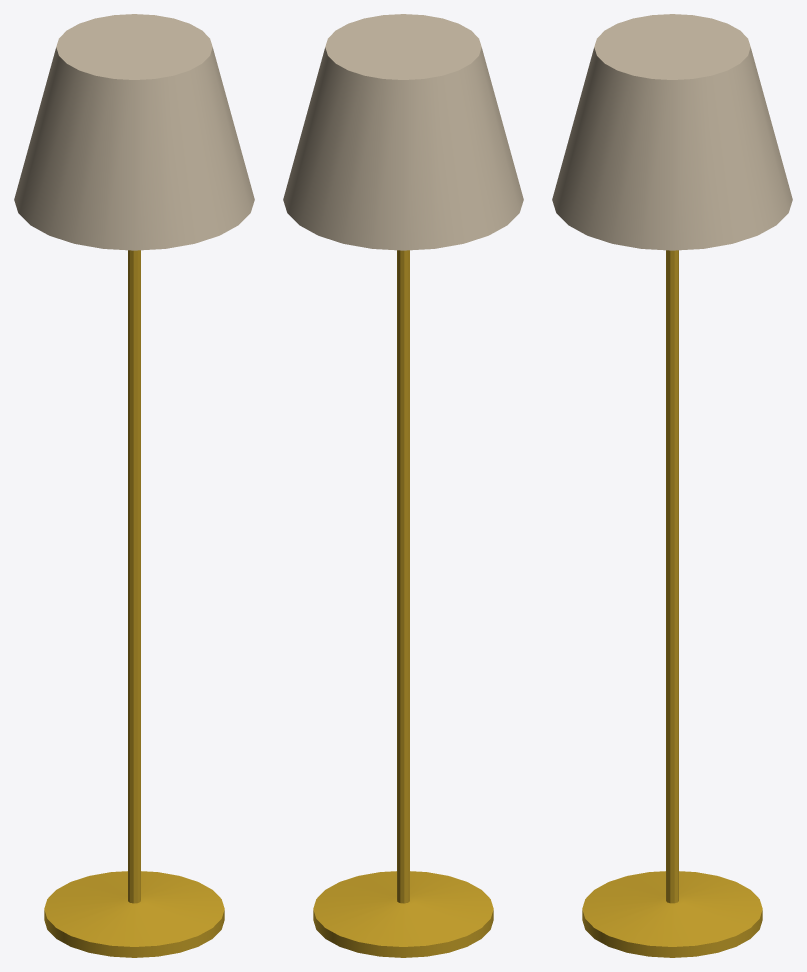
Rendered from prop_floor_lamp.glb.
3 views of the same model, side by side, from view 1: azimuth 30°, elevation 25°; view 2: azimuth 150°, elevation 25°; view 3: azimuth 270°, elevation 25° (orthographic).
Parts seen in each view (by area): view 1: Lamp; view 2: Lamp; view 3: Lamp.
Boxes of the visible parts, x1,y1,x2,y2 form: Lamp: [14, 14, 254, 957]; Lamp: [283, 14, 523, 957]; Lamp: [552, 14, 792, 957].
Size of what is drawn, in the model's own units: 0.4 by 1.6 by 0.4.
